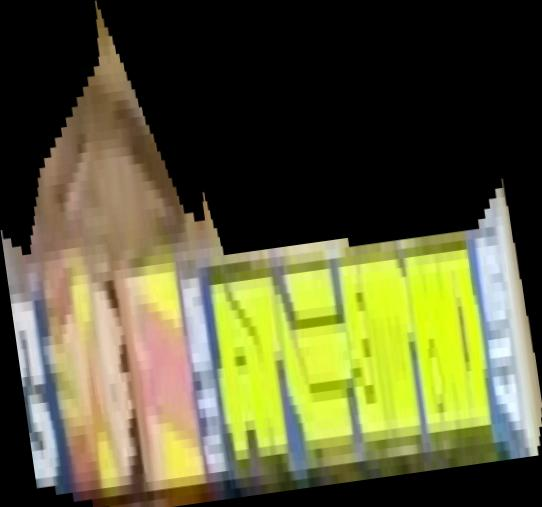flat: (1, 1, 542, 507)
